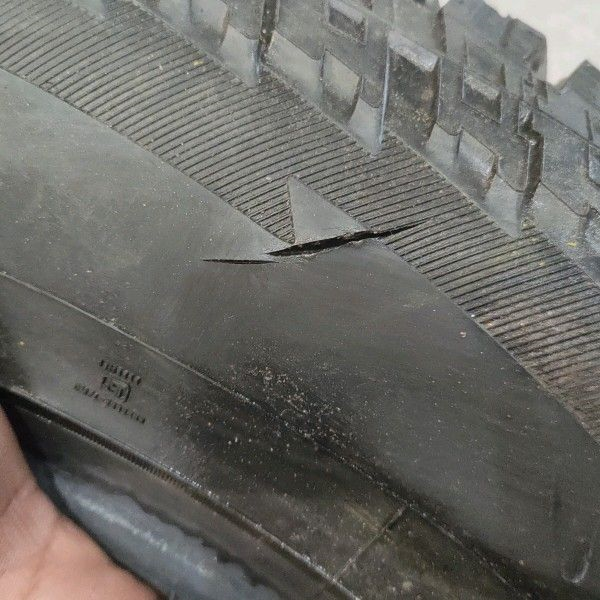cut: (205, 221, 431, 267)
